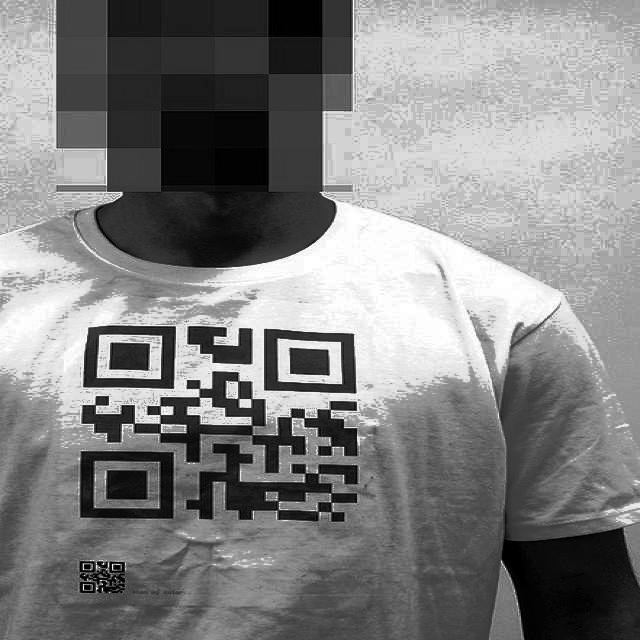qr_code: (80, 325, 358, 521), (80, 561, 123, 592)
